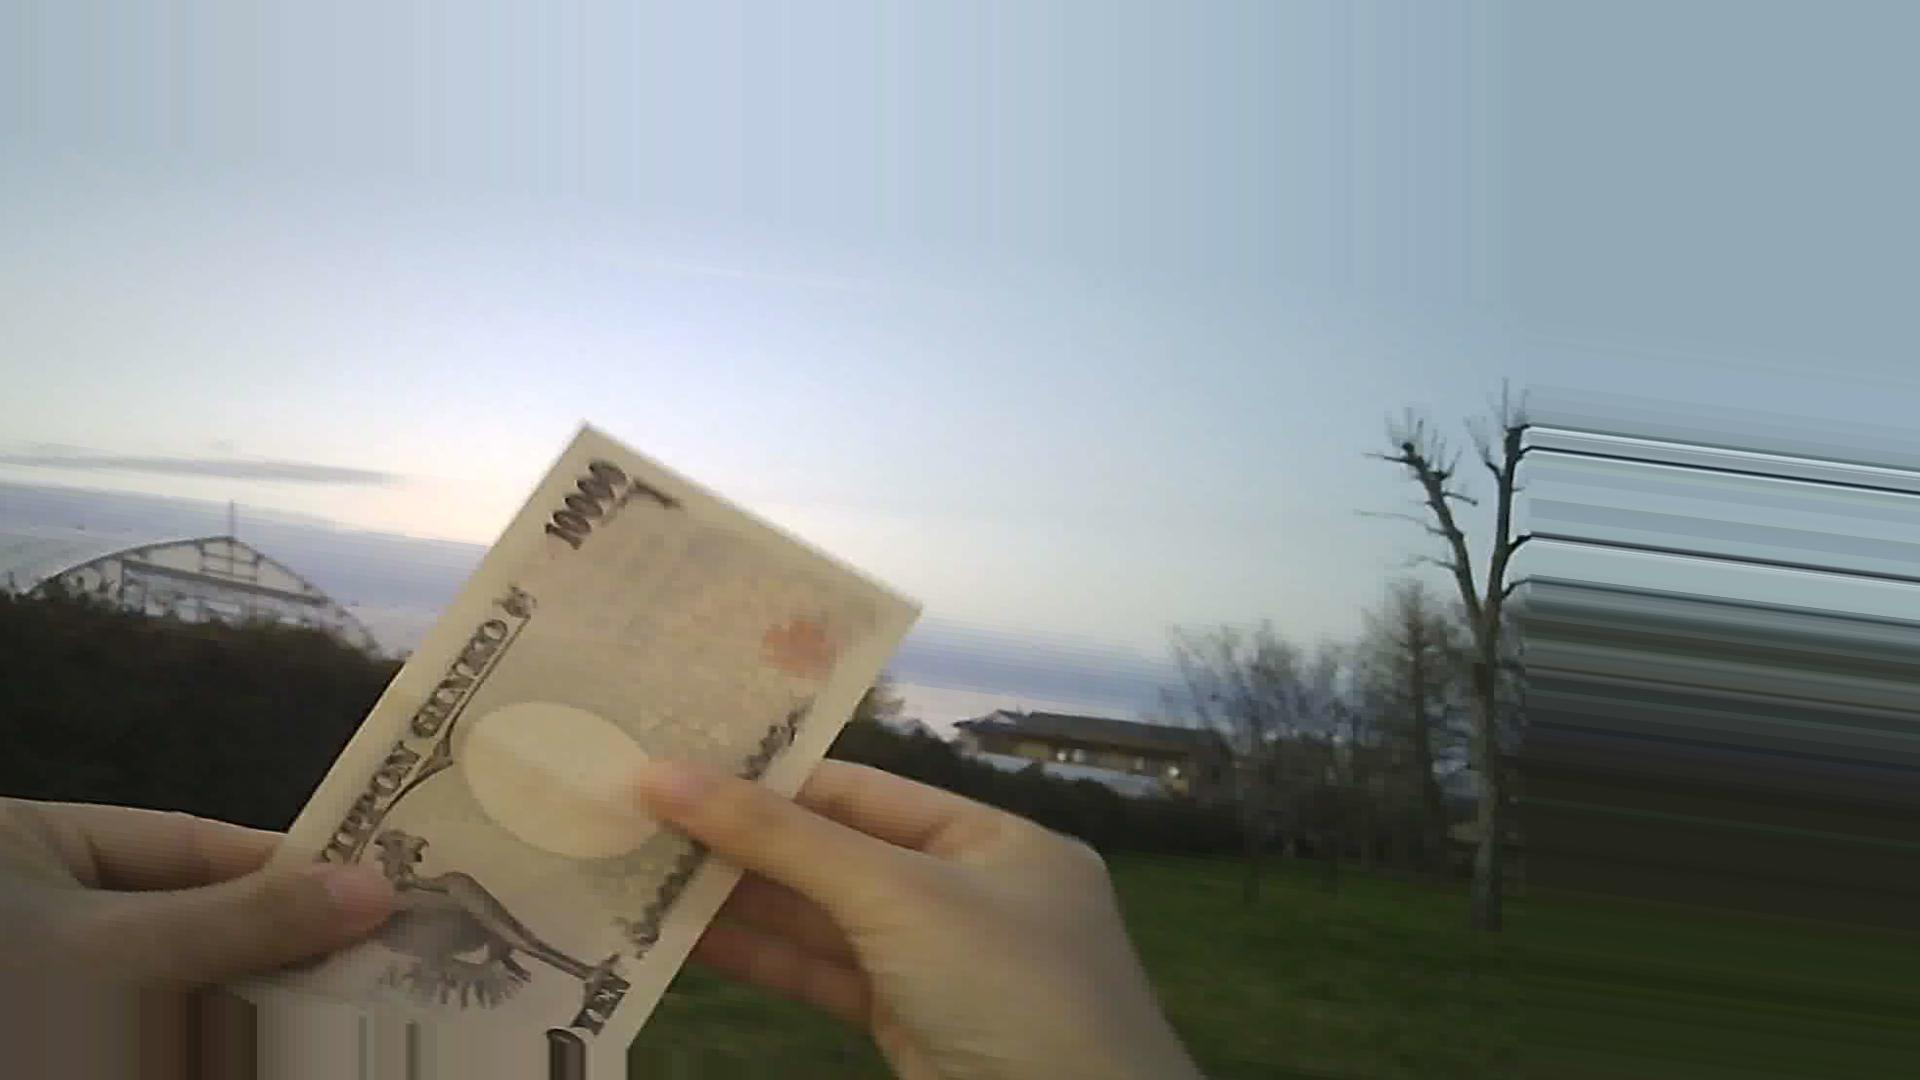10,000 Yen: (237, 404, 902, 1034)
